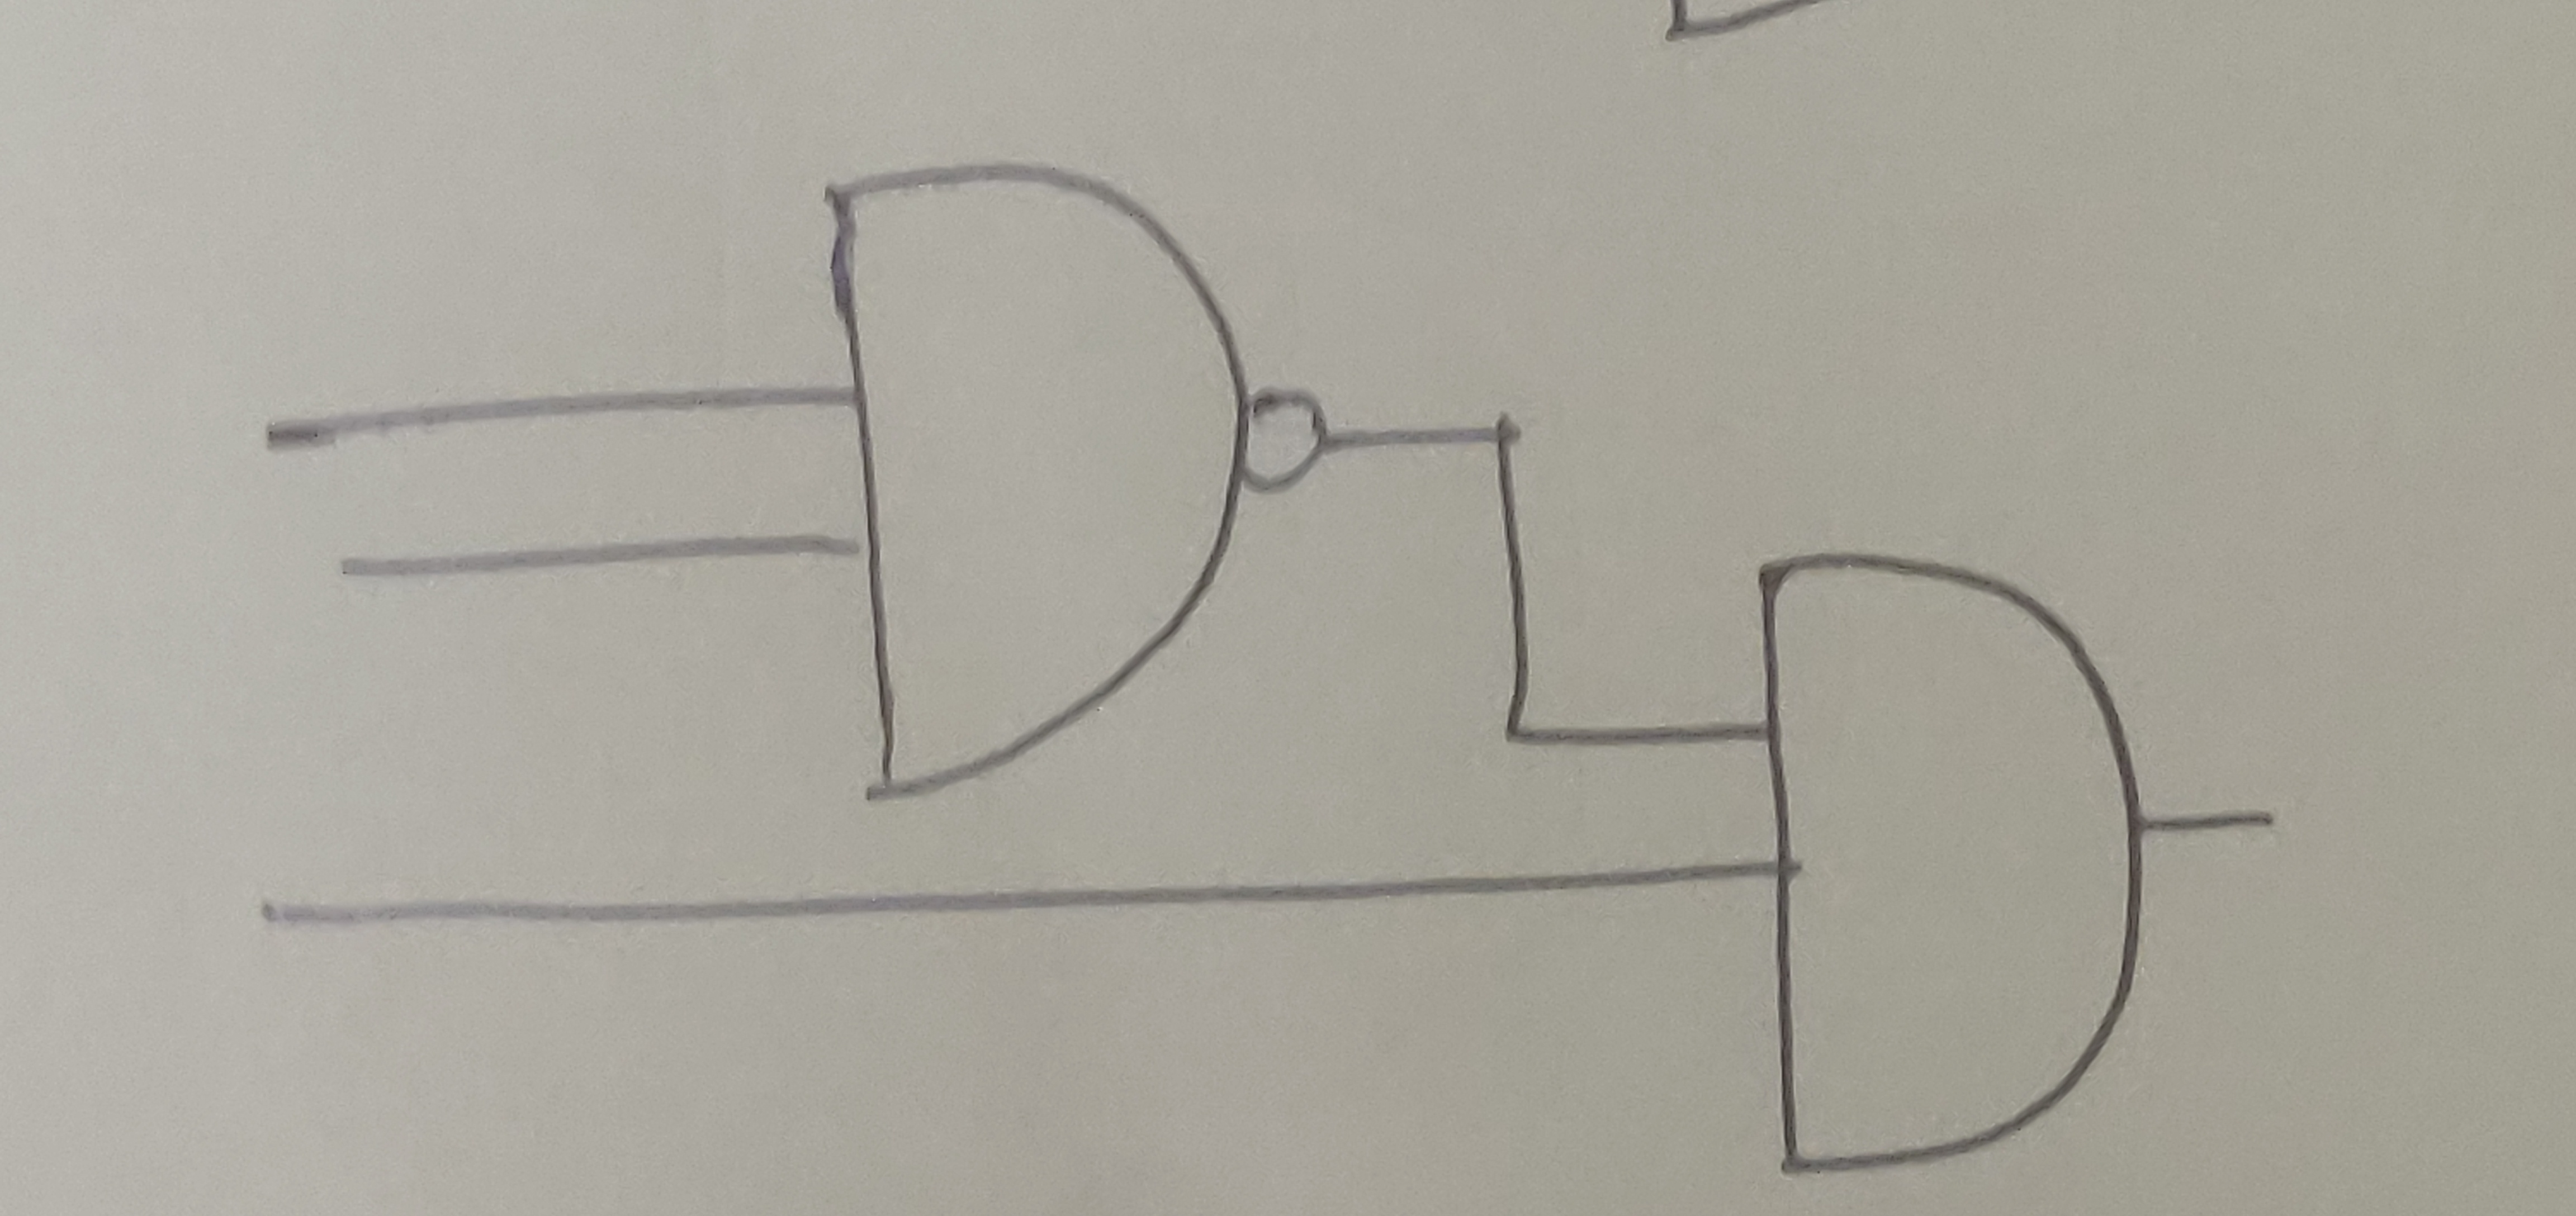and: (817, 158, 1255, 802), (1748, 549, 2152, 1186)
not: (1235, 388, 1337, 500)
